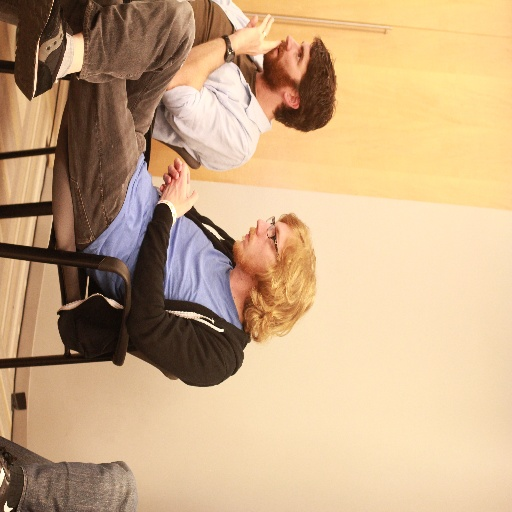hand: (231, 11, 282, 54), (157, 154, 190, 193)
